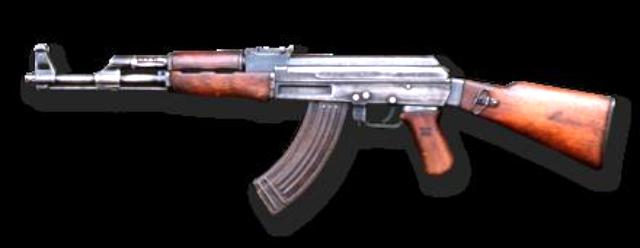rifle: (17, 26, 627, 232)
